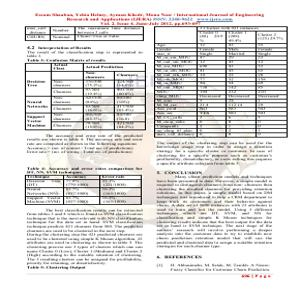table: (153, 25, 290, 140), (23, 58, 148, 133), (23, 173, 144, 206), (23, 24, 149, 44)
text: (154, 140, 276, 251), (22, 209, 145, 272), (152, 253, 274, 280), (34, 11, 266, 25), (25, 135, 146, 159), (23, 45, 146, 59)
